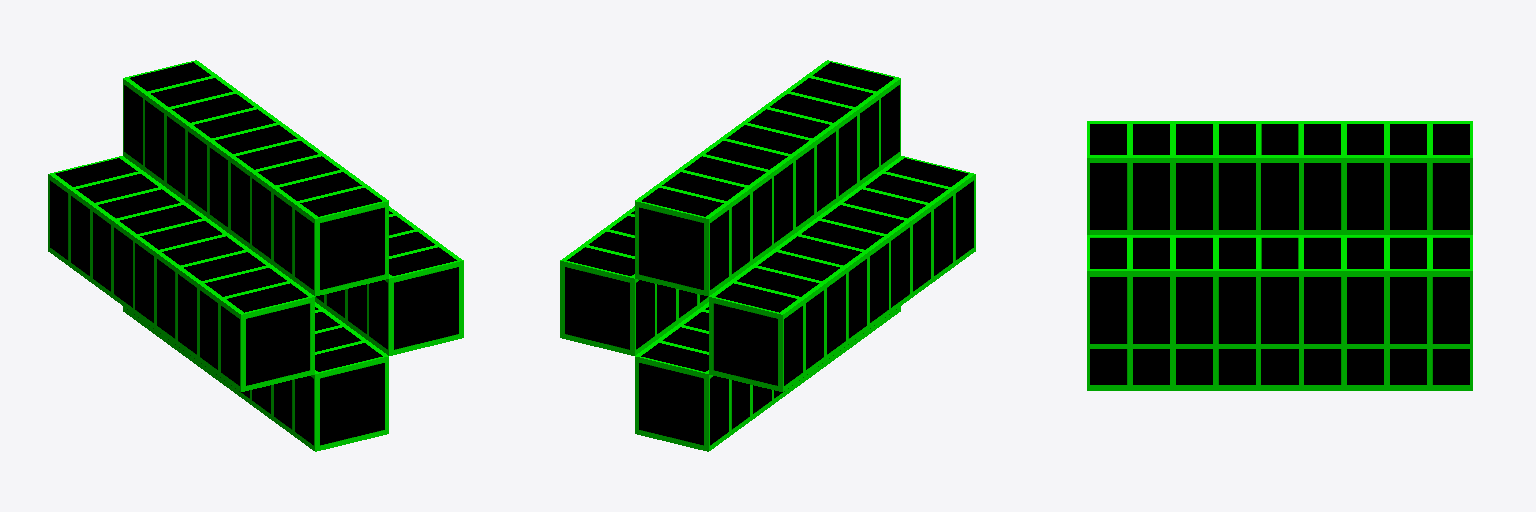
3 views of the same model, side by side, from view 1: azimuth 30°, elevation 25°; view 2: azimuth 150°, elevation 25°; view 3: azimuth 270°, elevation 25° (orthographic).
Parts seen in each view (by area): view 1: Cube.010_Cube.011, Cube.011_Cube.012, Cube.009_Cube.010, Cube.012_Cube.013, Cube.019_Cube.020, Cube.035_Cube.036, Cube.006_Cube.007, Cube.007_Cube.008, Cube.022_Cube.023, Cube.026_Cube.027, Cube.034_Cube.035, Cube.014_Cube.015 (+12 smaller); view 2: Cube.026_Cube.027, Cube.027_Cube.028, Cube.025_Cube.026, Cube.028_Cube.029, Cube.019_Cube.020, Cube.004, Cube.002, Cube.010_Cube.011, Cube.014_Cube.015, Cube.030_Cube.031, Cube.031_Cube.032, Cube.022_Cube.023 (+12 smaller); view 3: Cube, Cube.004, Cube.005_Cube.006, Cube.007_Cube.008, Cube.009_Cube.010, Cube.011_Cube.012, Cube.013_Cube.014, Cube.015_Cube.016, Cube.021_Cube.022, Cube.023_Cube.024, Cube.025_Cube.026, Cube.027_Cube.028 (+15 smaller).
Part boxes in pixels (left/top/right/bottom): Cube.010_Cube.011: left=220, top=281, right=314, bottom=391; Cube.011_Cube.012: left=294, top=186, right=388, bottom=296; Cube.009_Cube.010: left=368, top=245, right=463, bottom=355; Cube.012_Cube.013: left=294, top=341, right=388, bottom=451; Cube.019_Cube.020: left=208, top=123, right=302, bottom=233; Cube.035_Cube.036: left=165, top=91, right=259, bottom=202; Cube.006_Cube.007: left=198, top=265, right=292, bottom=376; Cube.007_Cube.008: left=272, top=170, right=367, bottom=280; Cube.022_Cube.023: left=155, top=234, right=250, bottom=344; Cube.026_Cube.027: left=48, top=156, right=143, bottom=266; Cube.034_Cube.035: left=91, top=187, right=185, bottom=297; Cube.014_Cube.015: left=113, top=203, right=207, bottom=313; Cube.026_Cube.027: left=709, top=281, right=803, bottom=391; Cube.027_Cube.028: left=635, top=186, right=729, bottom=296; Cube.025_Cube.026: left=560, top=245, right=655, bottom=355; Cube.028_Cube.029: left=635, top=341, right=729, bottom=451; Cube.019_Cube.020: left=721, top=123, right=815, bottom=233; Cube.004: left=764, top=91, right=858, bottom=202; Cube.002: left=838, top=187, right=932, bottom=297; Cube.010_Cube.011: left=880, top=156, right=975, bottom=266; Cube.014_Cube.015: left=773, top=234, right=868, bottom=344; Cube.030_Cube.031: left=731, top=265, right=825, bottom=376; Cube.031_Cube.032: left=656, top=170, right=751, bottom=280; Cube.022_Cube.023: left=816, top=203, right=910, bottom=313; Cube: left=1173, top=235, right=1215, bottom=348; Cube.004: left=1173, top=121, right=1215, bottom=234; Cube.005_Cube.006: left=1130, top=235, right=1172, bottom=348; Cube.007_Cube.008: left=1130, top=121, right=1172, bottom=234; Cube.009_Cube.010: left=1087, top=235, right=1129, bottom=348; Cube.011_Cube.012: left=1087, top=121, right=1129, bottom=234; Cube.013_Cube.014: left=1301, top=235, right=1343, bottom=348; Cube.015_Cube.016: left=1301, top=121, right=1343, bottom=234; Cube.021_Cube.022: left=1216, top=235, right=1258, bottom=348; Cube.023_Cube.024: left=1216, top=121, right=1258, bottom=234; Cube.025_Cube.026: left=1430, top=235, right=1472, bottom=348; Cube.027_Cube.028: left=1430, top=121, right=1472, bottom=234.
Size of the model in its own units: 6 by 6 by 9.
1 materials, 1 textured.